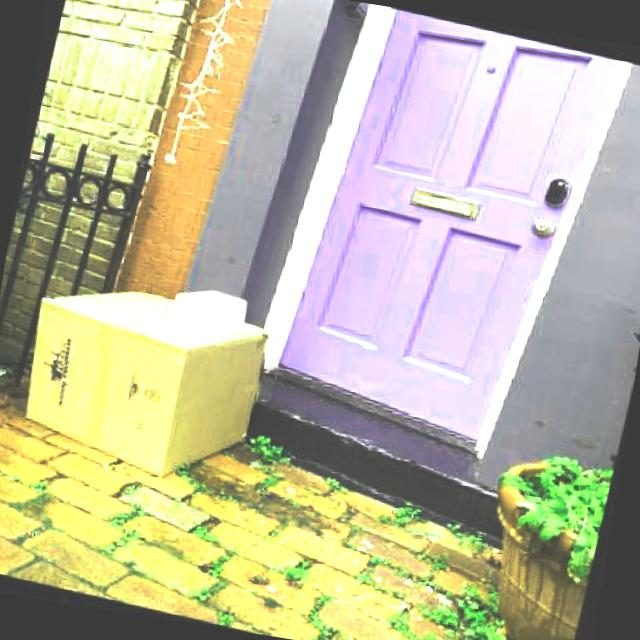Box: (1, 262, 283, 501), (160, 277, 254, 350)
